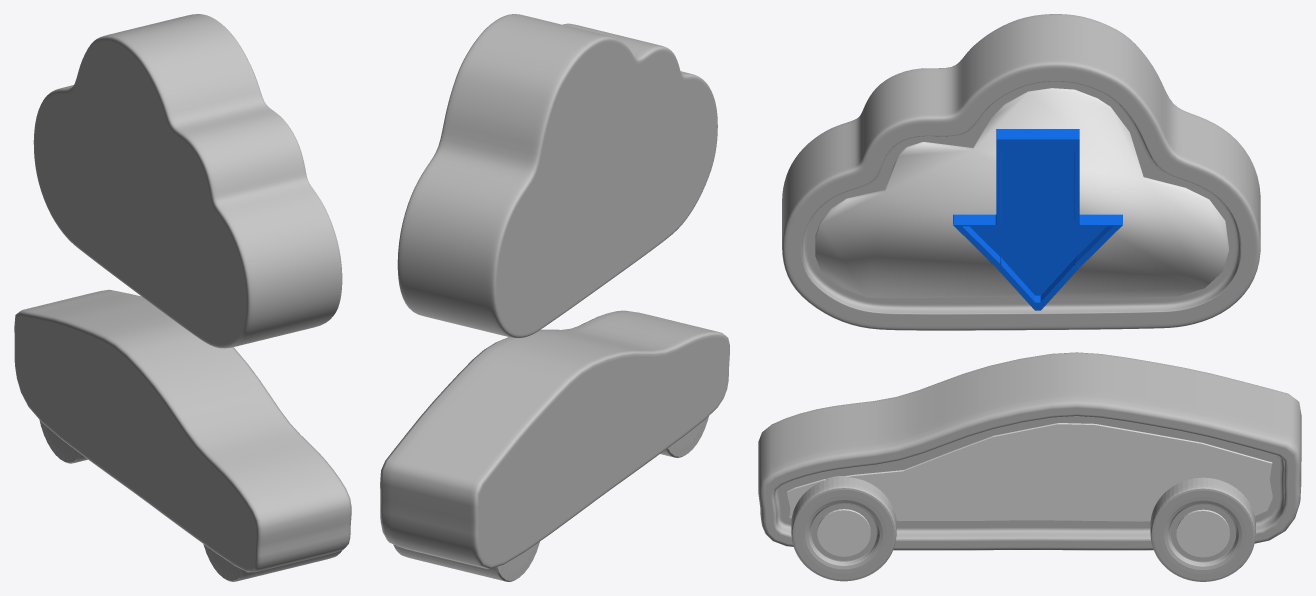
The model's file is camp copy.gltf.
The picture shows the model from 3 angles, left to right: view 1: azimuth 30°, elevation 25°; view 2: azimuth 150°, elevation 25°; view 3: azimuth 270°, elevation 25°; orthographic projection. The views are drawn at different scales.
Visible parts, largest first — view 1: Vert, Vert.007; view 2: Vert, Vert.007; view 3: Vert.007, Vert, Vert.003, Vert.001, Cube.002, Vert.002.
Boxes of the visible parts, bbox=[...] form: Vert: bbox=[33, 14, 342, 348]; Vert.007: bbox=[14, 289, 351, 581]; Vert: bbox=[397, 14, 717, 338]; Vert.007: bbox=[380, 310, 729, 581]; Vert.007: bbox=[758, 352, 1301, 581]; Vert: bbox=[782, 14, 1260, 330]; Vert.003: bbox=[815, 88, 1228, 298]; Vert.001: bbox=[787, 423, 1272, 521]; Cube.002: bbox=[953, 129, 1122, 310]; Vert.002: bbox=[817, 509, 1229, 557].
Bounding box in the file's own units: 0.4747 × 1.93 × 1.85.
